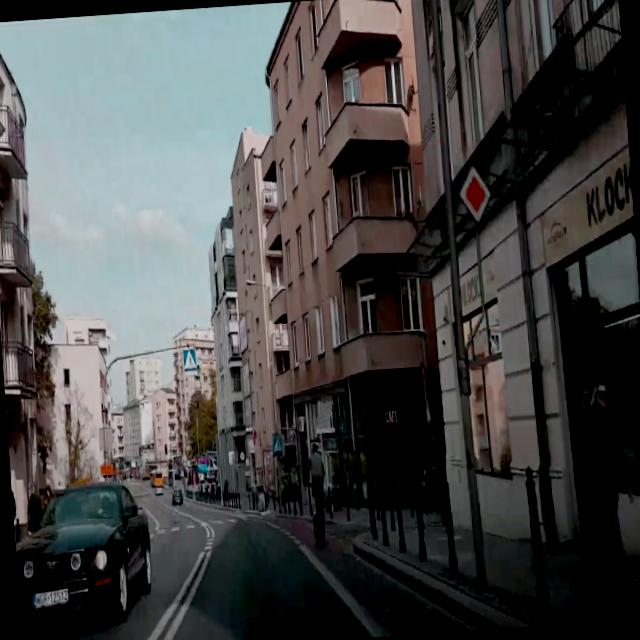Droga z pierwszenstwem: (457, 164, 492, 224)
Przejscie dla pieszych: (182, 346, 198, 372), (271, 436, 283, 455)
